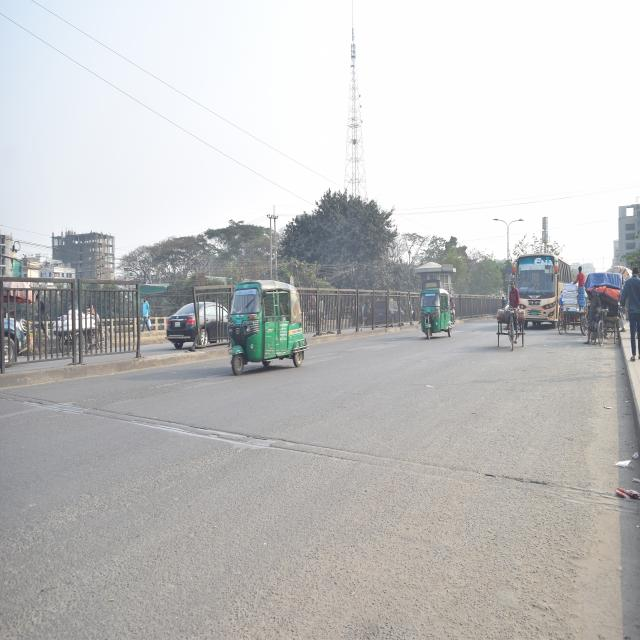bus: (513, 245, 562, 331)
car: (164, 293, 225, 352)
